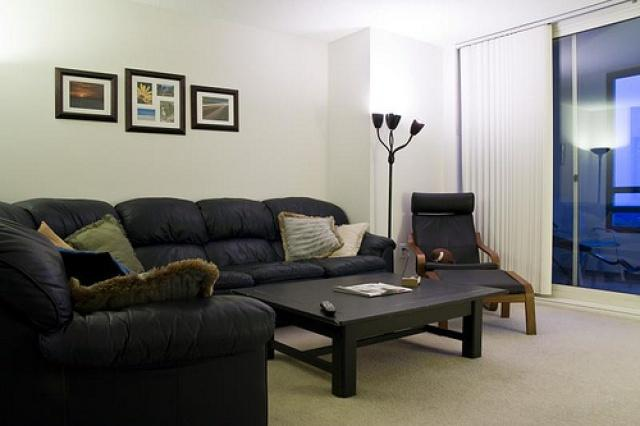Meja: (229, 270, 508, 399)
